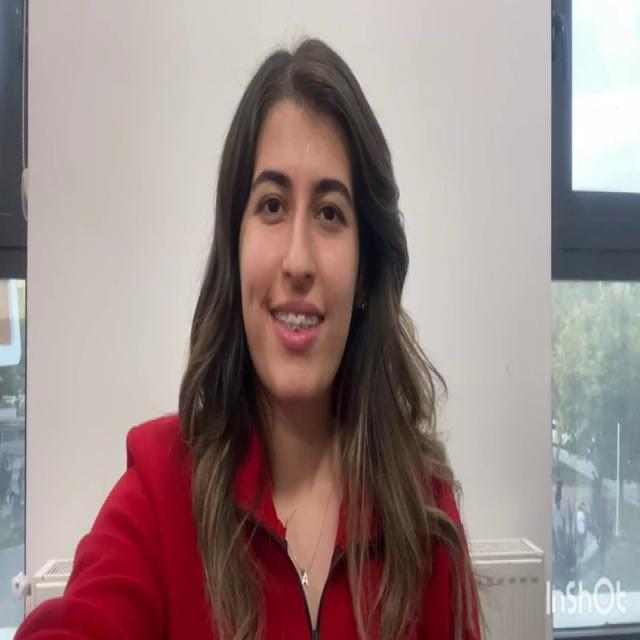happy: (237, 102, 359, 406)
